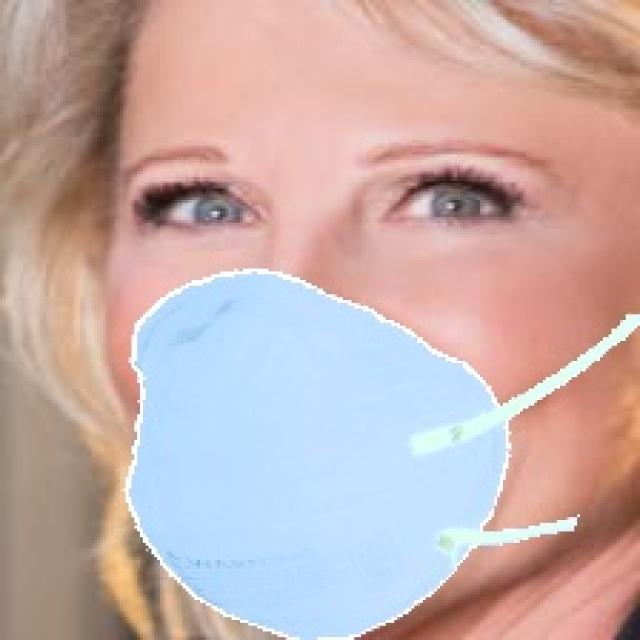mask: (107, 255, 564, 640)
